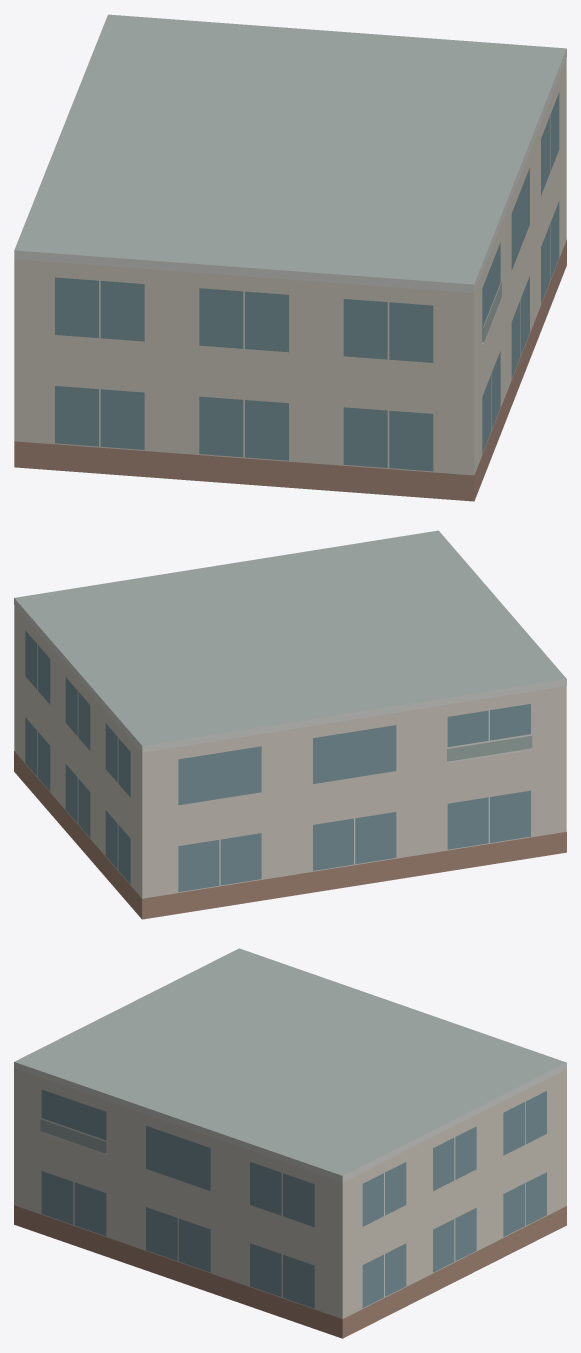
File: survey-upis-32887348.glb
3 renders of one model, top to bottom at view 1: azimuth 30°, elevation 25°; view 2: azimuth 150°, elevation 25°; view 3: azimuth 270°, elevation 25°, orthographic. The views are drawn at different scales.
Parts seen in each view (by area): view 1: survey-upis-32887348.tmp; view 2: survey-upis-32887348.tmp; view 3: survey-upis-32887348.tmp.
Part boxes in pixels (bbox=[...]): survey-upis-32887348.tmp: bbox=[14, 14, 566, 501]; survey-upis-32887348.tmp: bbox=[14, 530, 566, 919]; survey-upis-32887348.tmp: bbox=[14, 948, 566, 1338].
Bounding box in the file's own units: 18.3 × 6.1 × 18.79.
